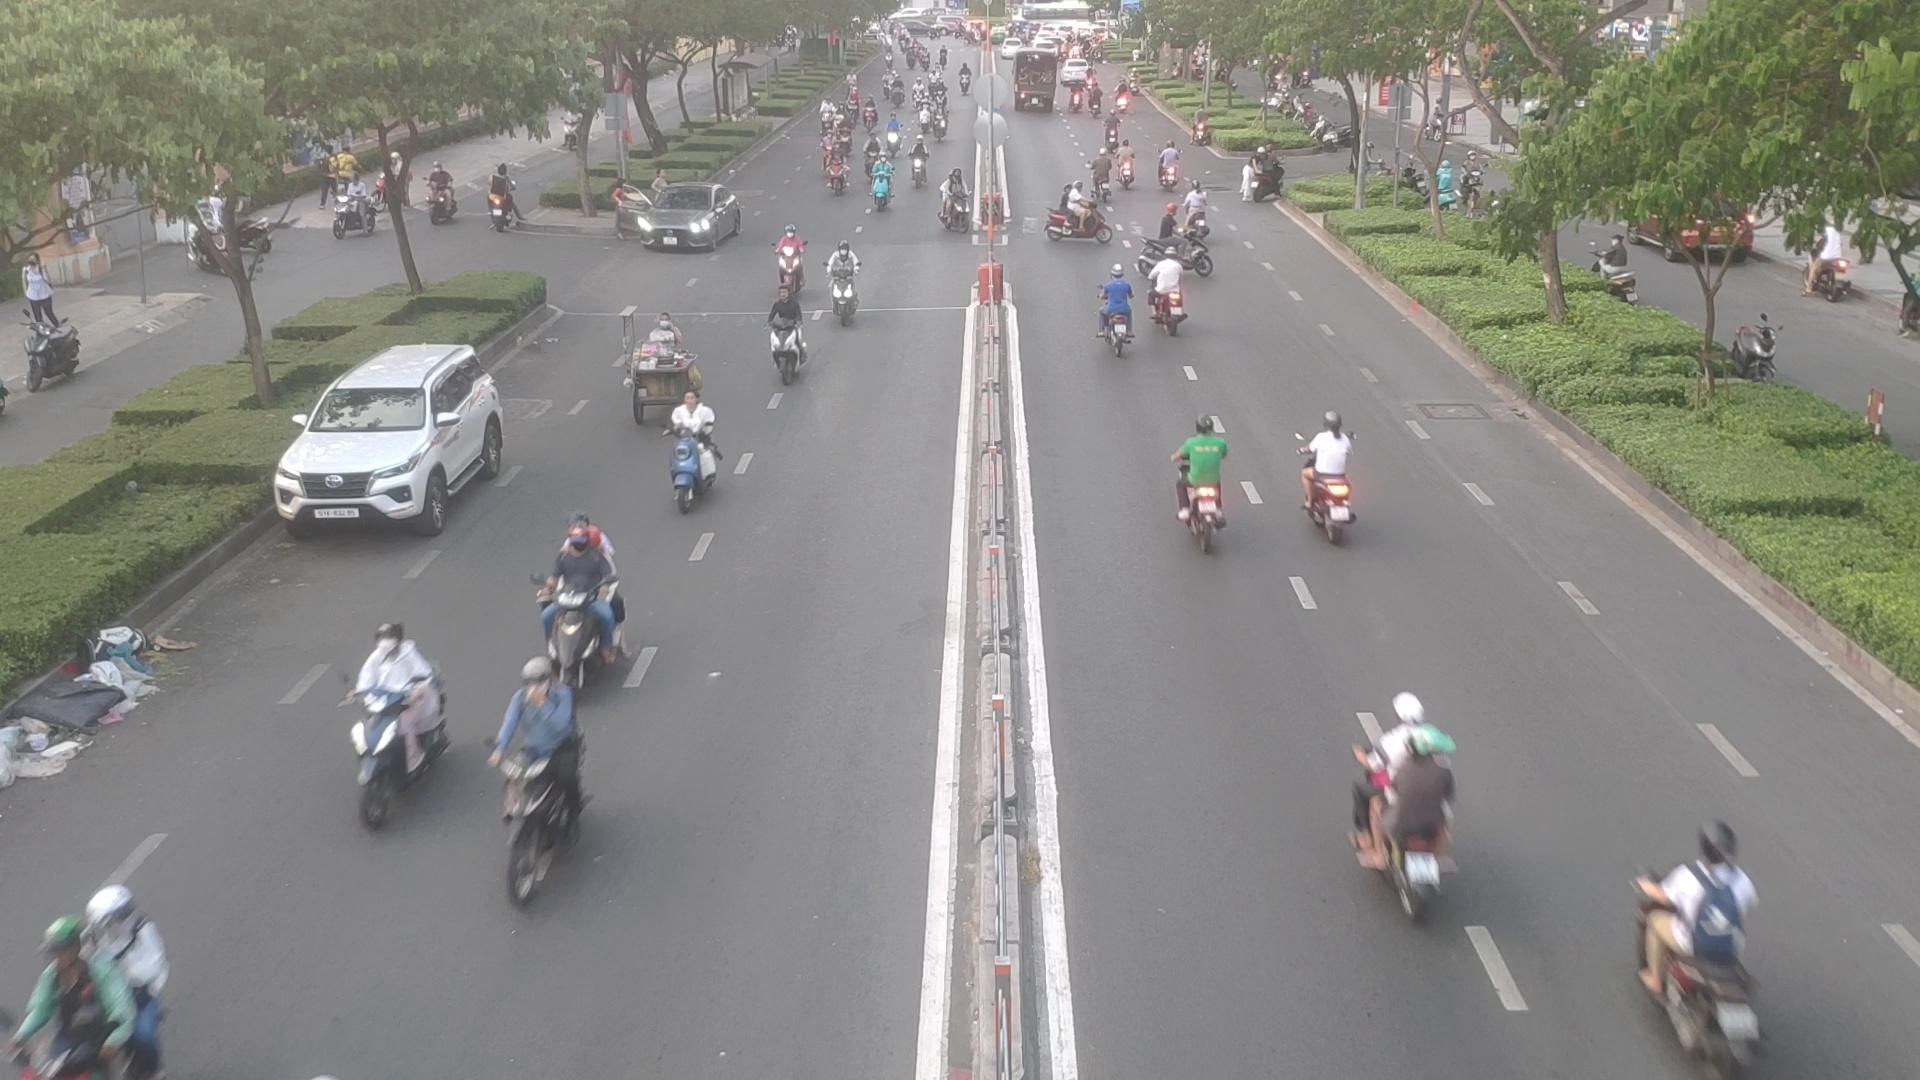car: (276, 340, 520, 529), (620, 189, 756, 257)
motorbike: (1, 868, 173, 1075), (1638, 837, 1768, 1075), (1353, 696, 1477, 911), (334, 626, 448, 825), (506, 671, 607, 880), (543, 524, 636, 687), (1175, 415, 1240, 549), (657, 392, 727, 506), (1298, 411, 1360, 539), (762, 290, 822, 382), (1087, 274, 1139, 359), (1044, 189, 1114, 247), (824, 248, 872, 330), (1143, 269, 1187, 339), (771, 222, 816, 281)
